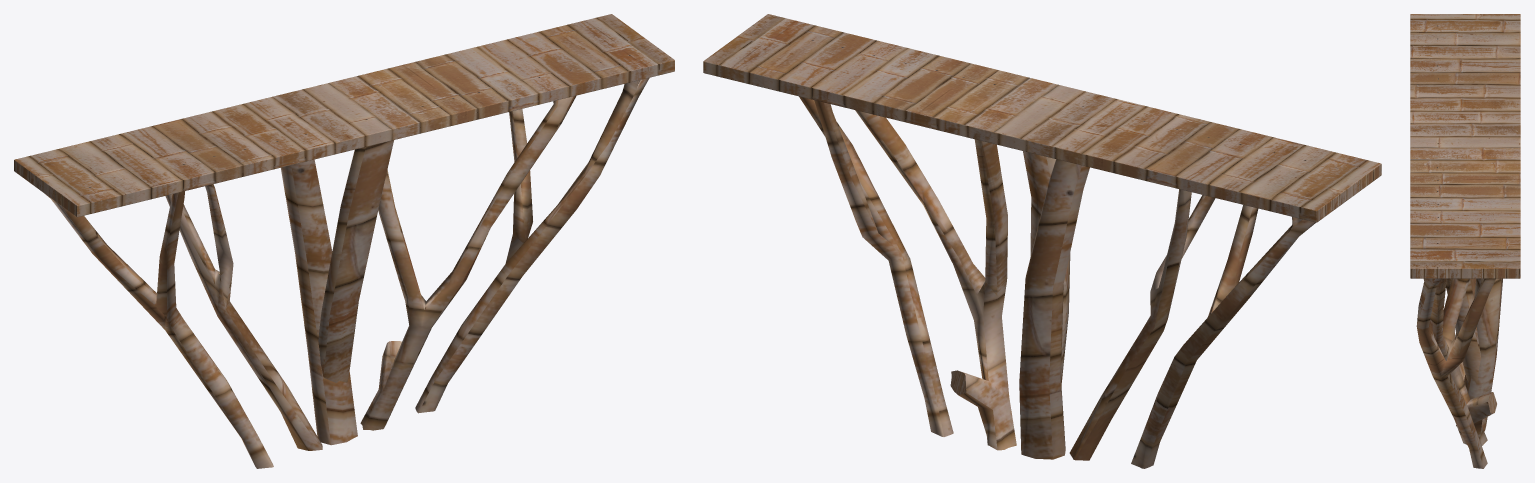
File: bar.obj
3 views of the same model, side by side, from view 1: azimuth 30°, elevation 25°; view 2: azimuth 150°, elevation 25°; view 3: azimuth 270°, elevation 25° (orthographic). The views are drawn at different scales.
Parts seen in each view (by area): view 1: BAR_BARK; view 2: BAR_BARK; view 3: BAR_BARK.
Part boxes in pixels (x1,y1,x2,y2): BAR_BARK: [14, 14, 674, 468]; BAR_BARK: [703, 14, 1381, 468]; BAR_BARK: [1410, 14, 1520, 468].
Bounding box in the file's own units: 6.69 × 3.5 × 1.23.
Materials: 1 (1 with a texture image).
